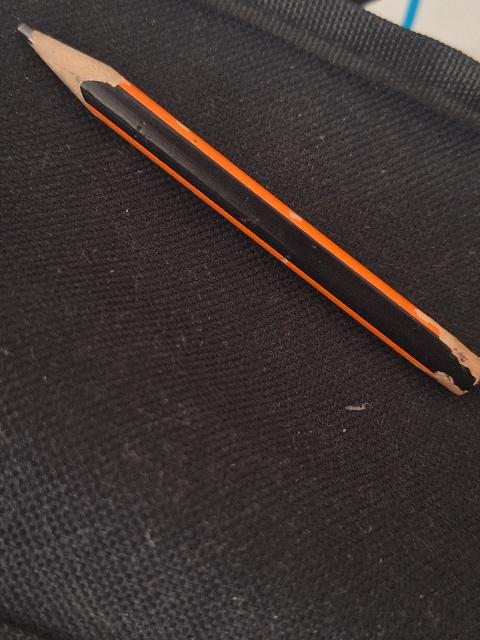writing_tool: (19, 19, 480, 398)
